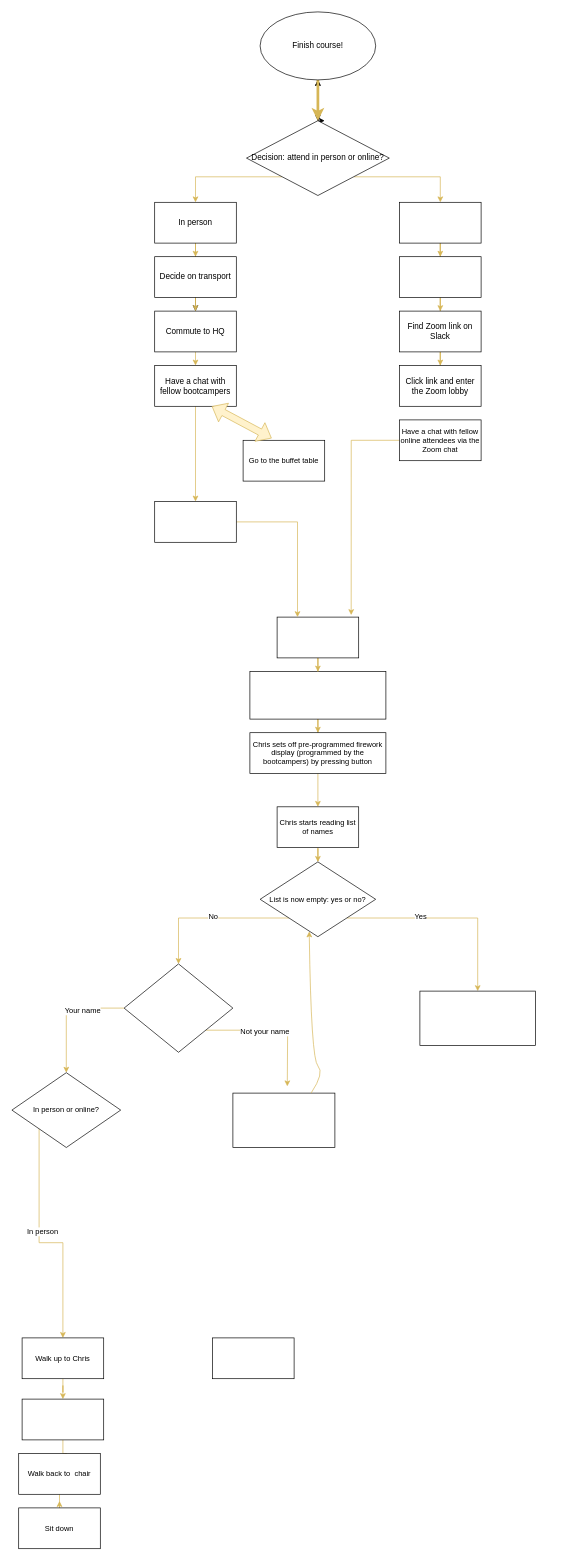
Image size: 573x1561. Some labels were removed from this diagram. Here are the shapes that lost their labels. From the top down, the box of each, then its label:
(399, 202, 481, 243): Online
(399, 256, 481, 298): Go on PC
(154, 501, 236, 542): Take your seat
(276, 616, 359, 658): Listen to opening speech from Chris Meah
(249, 671, 386, 719): Chris reads Lorem Ipsum text
(123, 963, 233, 1052): Your name is read out or another person's name?
(232, 1092, 335, 1148): Applaud
(21, 1398, 104, 1440): Collect certificate
